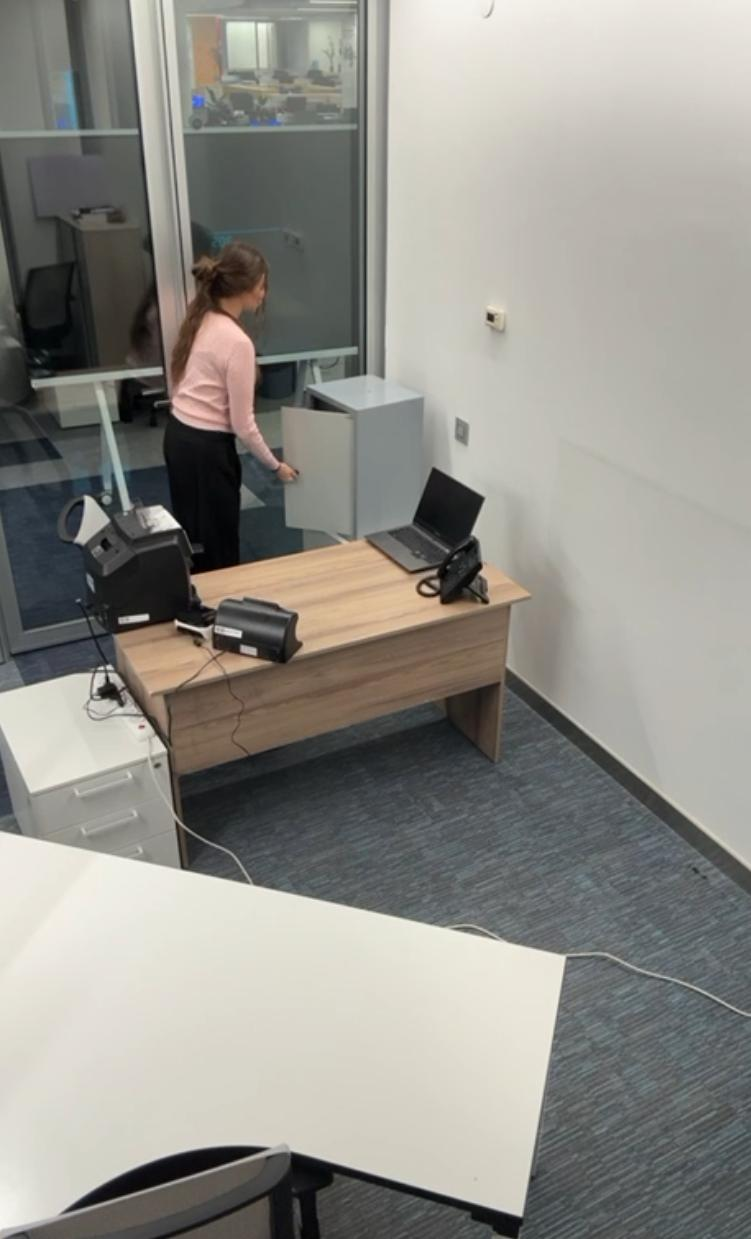counter: (82, 502, 201, 637)
safe_open: (279, 373, 432, 540)
uv_lamp: (211, 593, 302, 667)
